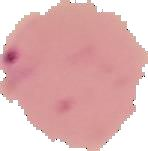parasitized: (7, 34, 64, 81)
